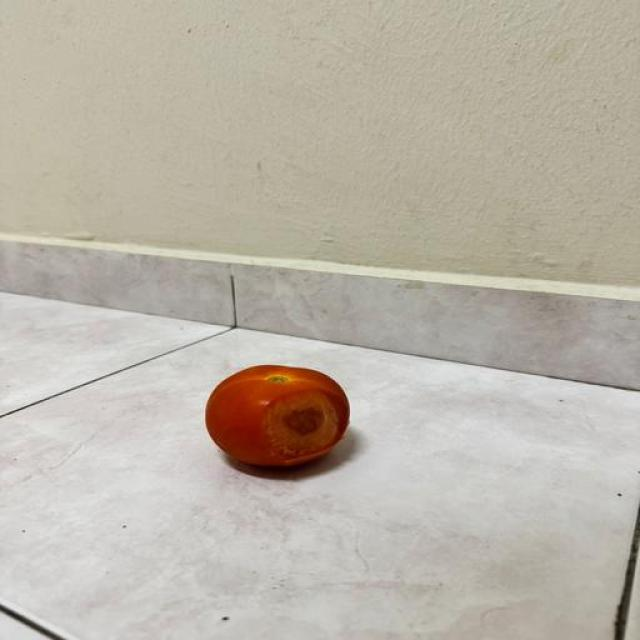organic: (205, 365, 349, 466)
